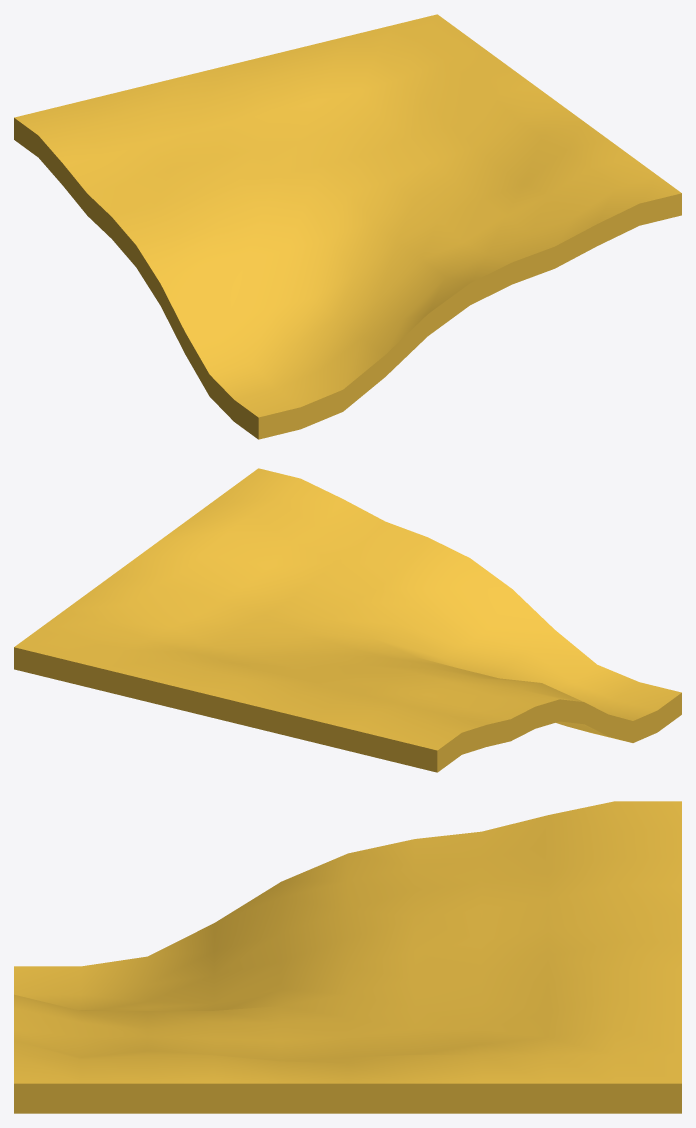
The model's file is Flach - Unten - Ecke Invertiert a - a.fbx.
3 renders of one model, top to bottom at view 1: azimuth 30°, elevation 25°; view 2: azimuth 150°, elevation 25°; view 3: azimuth 270°, elevation 25°, orthographic. The views are drawn at different scales.
Visible parts, largest first — view 1: Flach - Unten - Ecke Invertiert a - a; view 2: Flach - Unten - Ecke Invertiert a - a; view 3: Flach - Unten - Ecke Invertiert a - a.
Boxes of the visible parts, x1,y1,x2,y2 form: Flach - Unten - Ecke Invertiert a - a: [14, 14, 681, 439]; Flach - Unten - Ecke Invertiert a - a: [14, 468, 681, 772]; Flach - Unten - Ecke Invertiert a - a: [14, 801, 681, 1113].
Size of the model in its own units: 394 by 127 by 394.
